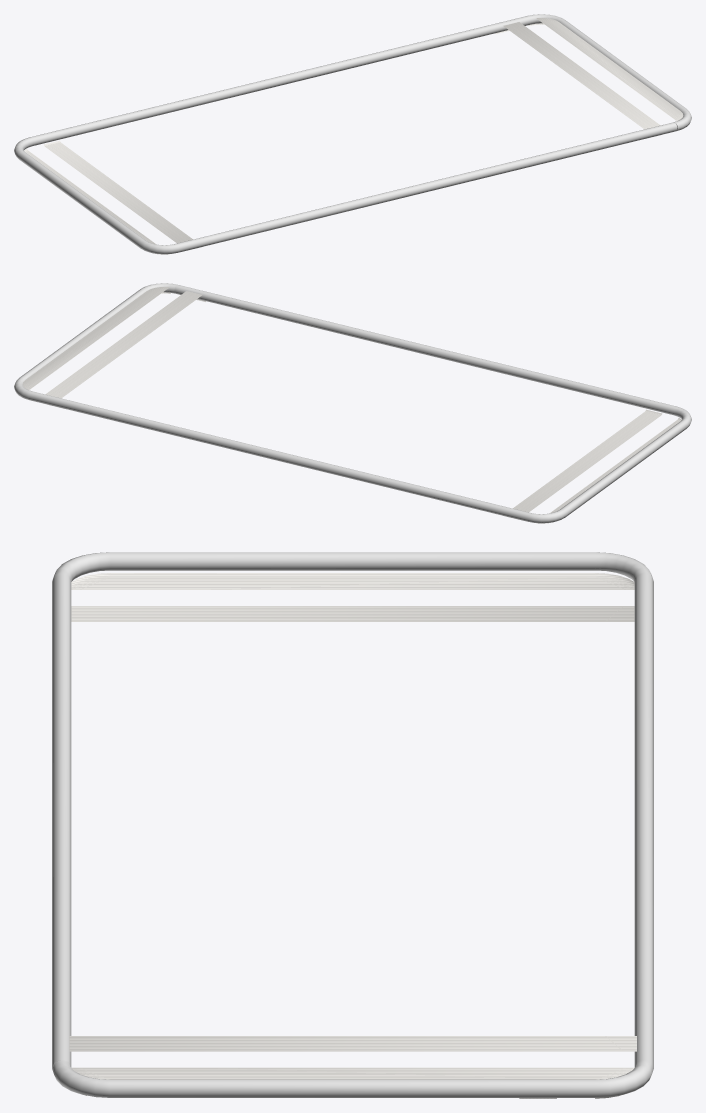
The model's file is checker_rug.fbx.
The picture shows the model from 3 angles, top to bottom: view 1: azimuth 30°, elevation 25°; view 2: azimuth 150°, elevation 25°; view 3: azimuth 270°, elevation 25°; orthographic projection. The views are drawn at different scales.
Parts seen in each view (by area): view 1: checker_rug; view 2: checker_rug; view 3: checker_rug.
Part boxes in pixels (bbox=[...]): checker_rug: bbox=[14, 14, 691, 254]; checker_rug: bbox=[14, 283, 691, 523]; checker_rug: bbox=[52, 552, 653, 1098].
Bounding box in the file's own units: 9.14 × 0.17 × 4.34.
